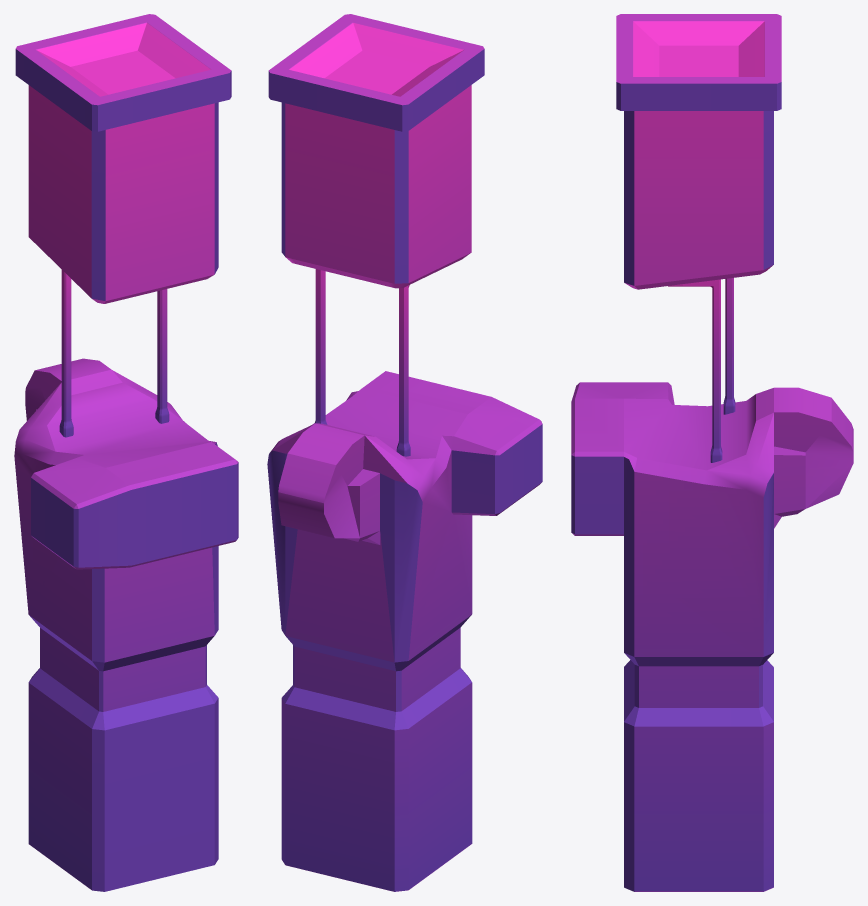
File: addman.fbx
3 views of the same model, side by side, from view 1: azimuth 30°, elevation 25°; view 2: azimuth 150°, elevation 25°; view 3: azimuth 270°, elevation 25° (orthographic). The views are drawn at different scales.
Visible parts, largest first — view 1: building_67, s_25, s_24; view 2: building_67, s_25, s_24; view 3: building_67, s_24, s_25.
Boxes of the visible parts, x1,y1,x2,y2 form: building_67: [14, 14, 238, 891]; s_25: [59, 270, 73, 437]; s_24: [155, 289, 169, 423]; building_67: [267, 14, 542, 891]; s_25: [396, 285, 410, 456]; s_24: [314, 269, 327, 424]; building_67: [571, 14, 853, 891]; s_24: [668, 279, 722, 462]; s_25: [723, 278, 735, 414].
Bounding box in the file's own units: 73.12 × 298 × 94.
